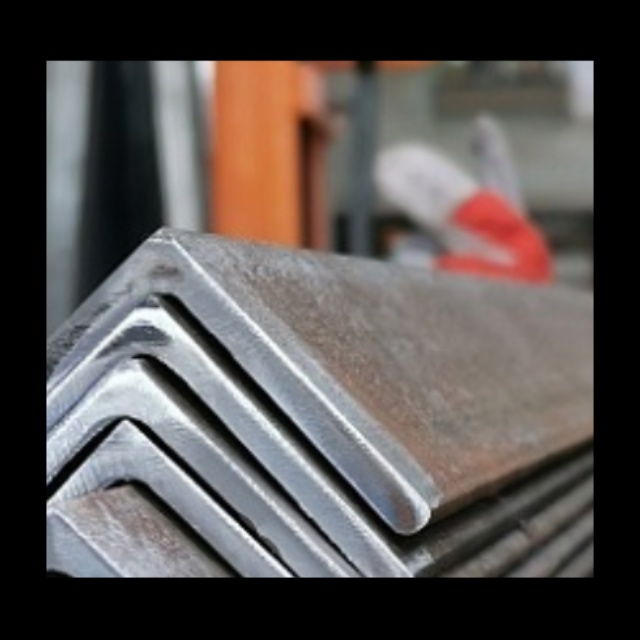Angle: (46, 258, 406, 511), (46, 324, 390, 571), (46, 389, 395, 578), (54, 453, 392, 578), (46, 534, 257, 578)
